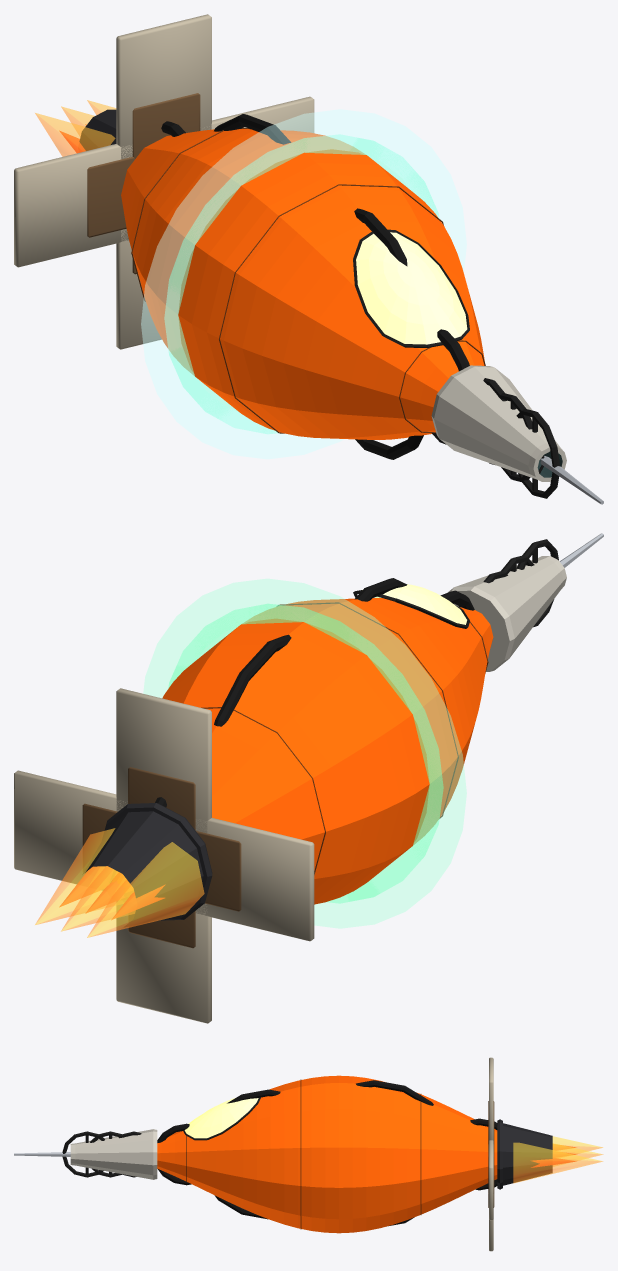
File: moebius-aircraft-v1.glb
The picture shows the model from 3 angles, top to bottom: view 1: azimuth 30°, elevation 25°; view 2: azimuth 150°, elevation 25°; view 3: azimuth 270°, elevation 25°; orthographic projection. The views are drawn at different scales.
Visible parts, largest first — view 1: aircraft-hull.002, aircraft-scan-ring.002, aircraft-scan-spot.002, n38.002, n33.002, n22.002, cockpit-exterior-lime-lens.001, n43.002, n40.002, n35.002, n48.002, n7.002 (+6 smaller); view 2: aircraft-hull.002, aircraft-scan-ring.002, aircraft-scan-spot.002, n33.002, n38.002, n17.002, n43.002, n48.002, n22.002, n56.002, n60.002, n40.002 (+9 smaller); view 3: aircraft-hull.002, n22.002, n17.002, n60.002, cockpit-exterior-lime-lens.001, aircraft-details-n0-AircraftV1_OrangePanelSeam.001, n5.002, n7.002, n58.002, n56.002, n28.002, n9.002 (+3 smaller).
Part boxes in pixels (box(x1,y1,x2,y2)): aircraft-hull.002: box(121, 129, 484, 439); aircraft-scan-ring.002: box(141, 109, 466, 458); aircraft-scan-spot.002: box(164, 134, 439, 433); n38.002: box(14, 144, 132, 267); n33.002: box(116, 14, 211, 159); n22.002: box(431, 365, 566, 481); cockpit-exterior-lime-lens.001: box(356, 232, 467, 344); n43.002: box(116, 229, 161, 349); n40.002: box(87, 156, 134, 237); n35.002: box(132, 93, 200, 158); n48.002: box(204, 96, 314, 132); n7.002: box(354, 208, 423, 459); aircraft-hull.002: box(109, 598, 493, 904); aircraft-scan-ring.002: box(143, 579, 466, 928); aircraft-scan-spot.002: box(168, 604, 443, 903); n33.002: box(116, 688, 211, 833); n38.002: box(195, 818, 314, 941); n17.002: box(82, 811, 203, 927); n43.002: box(116, 904, 211, 1023); n48.002: box(14, 770, 125, 890); n22.002: box(447, 556, 566, 671); n56.002: box(87, 842, 204, 937); n60.002: box(35, 828, 118, 924); n40.002: box(196, 831, 241, 911); aircraft-hull.002: box(157, 1075, 497, 1233); n22.002: box(70, 1129, 157, 1179); n17.002: box(503, 1123, 552, 1185); n60.002: box(513, 1142, 602, 1183); cockpit-exterior-lime-lens.001: box(184, 1098, 258, 1138); aircraft-details-n0-AircraftV1_OrangePanelSeam.001: box(186, 1079, 421, 1229); n5.002: box(356, 1080, 433, 1226); n7.002: box(214, 1089, 280, 1219); n58.002: box(552, 1143, 603, 1166); n56.002: box(552, 1136, 602, 1153); n28.002: box(62, 1131, 104, 1177); n9.002: box(157, 1123, 191, 1185).
Bounding box in the file's own units: 3.5 × 3.5 × 10.07.
